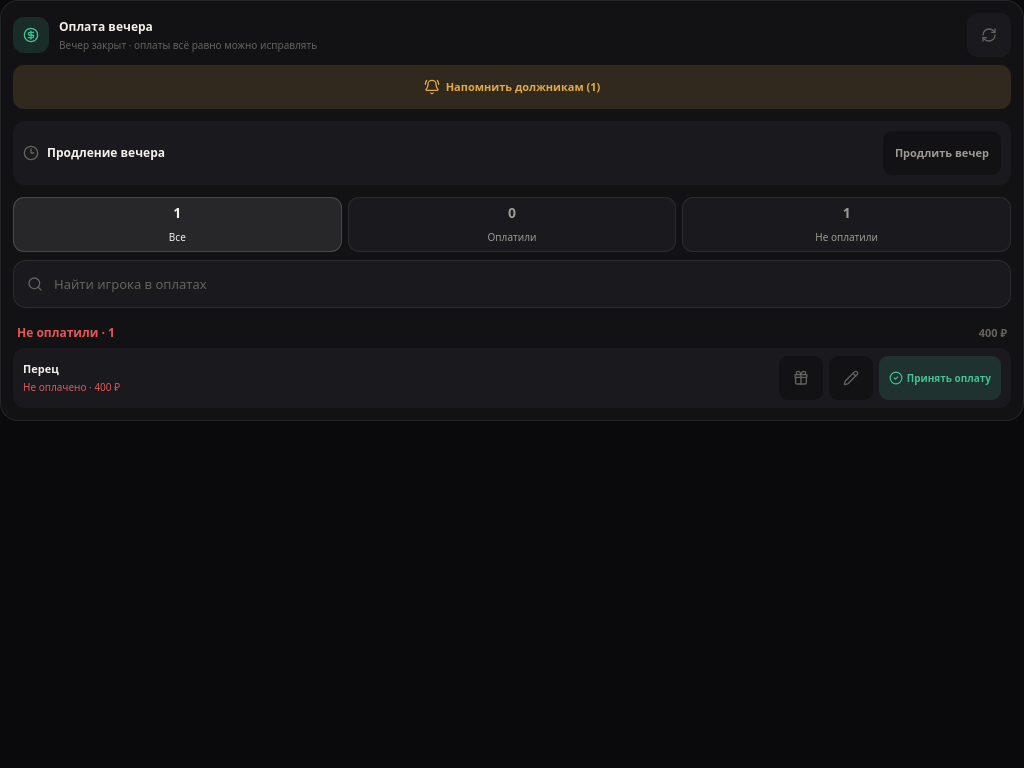
it: payments panel: a part of the sum by hand (owner, 2026-10-22) › saves a partial amount and shows what is left as the debt
The width and height of the screenshot is (1024, 768).
Expected: the text "Не оплачено · 400 ₽" is shown, [23, 380, 120, 394]
Click the button with test id "payment-amount-a": (851, 378) [829, 356, 873, 400]
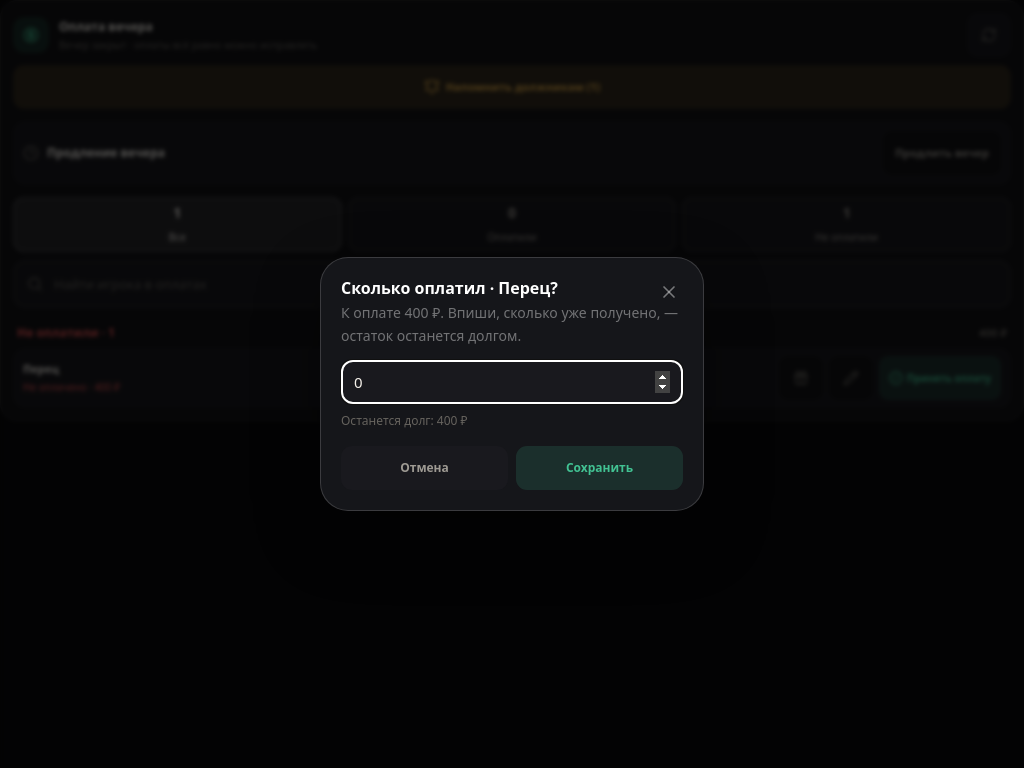
Replace the text in the number field named "Сколько получено, ₽" with "200": (512, 382) [341, 360, 683, 404]
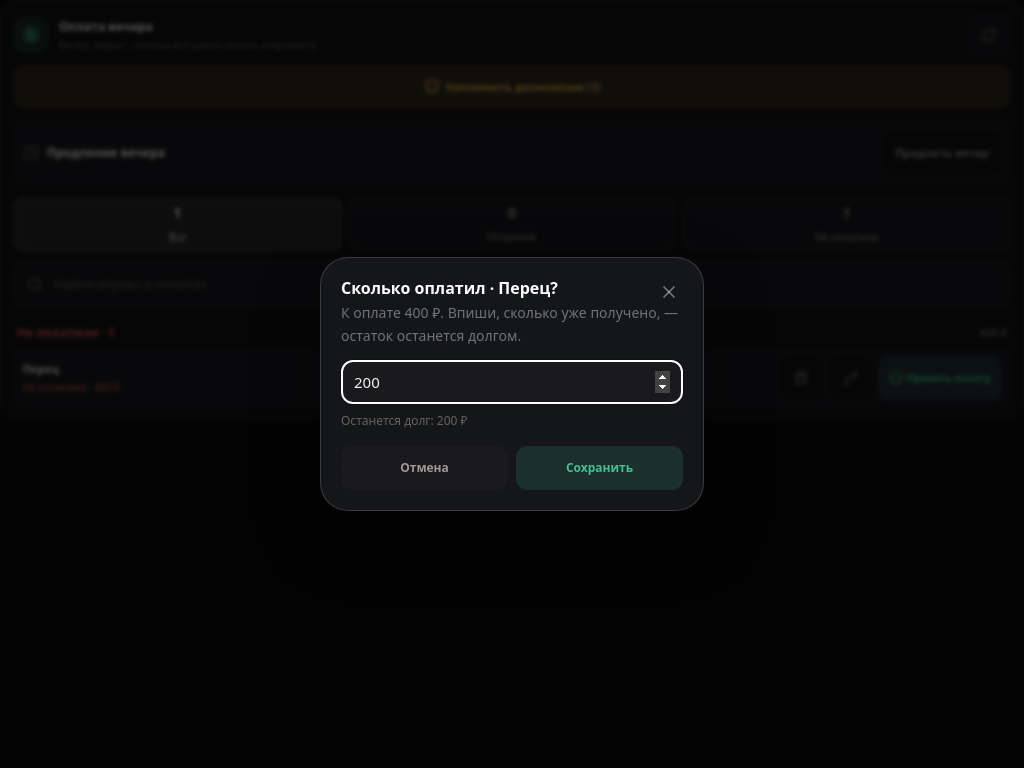
Result: the text "Останется долг: 200 ₽" is shown at [341, 412, 468, 429]
Click the button "Сохранить": (600, 468) [516, 446, 683, 490]
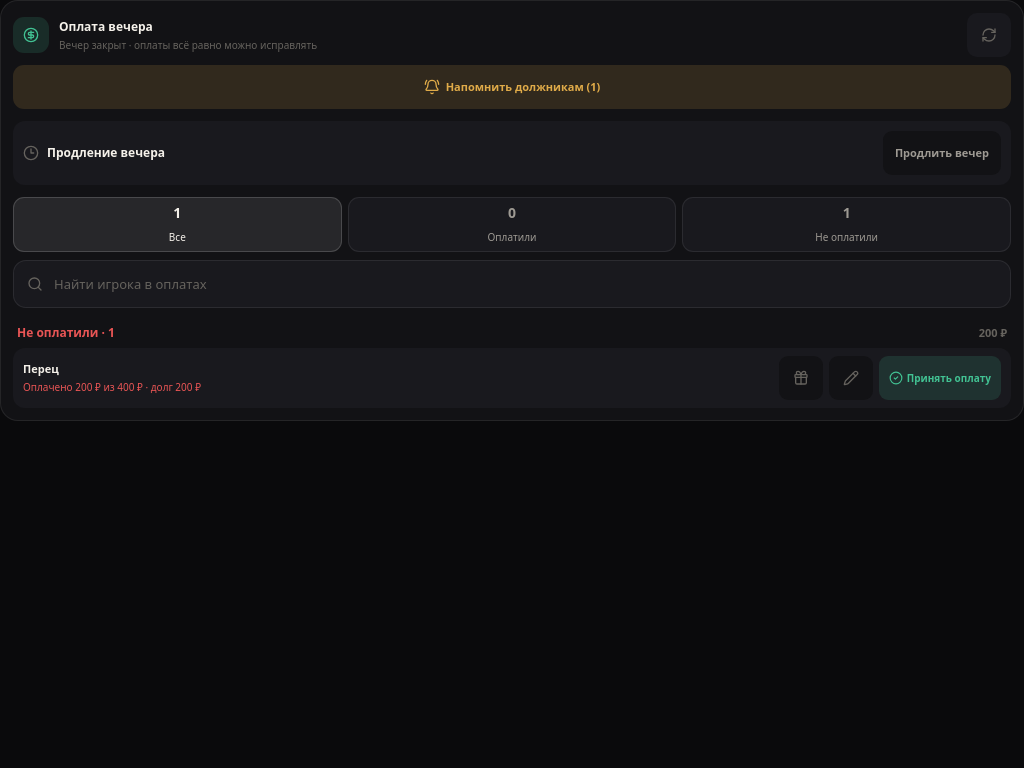
Result: the text "Оплачено 200 ₽ из 400 ₽ · долг 200 ₽" is shown at [23, 380, 201, 394]
